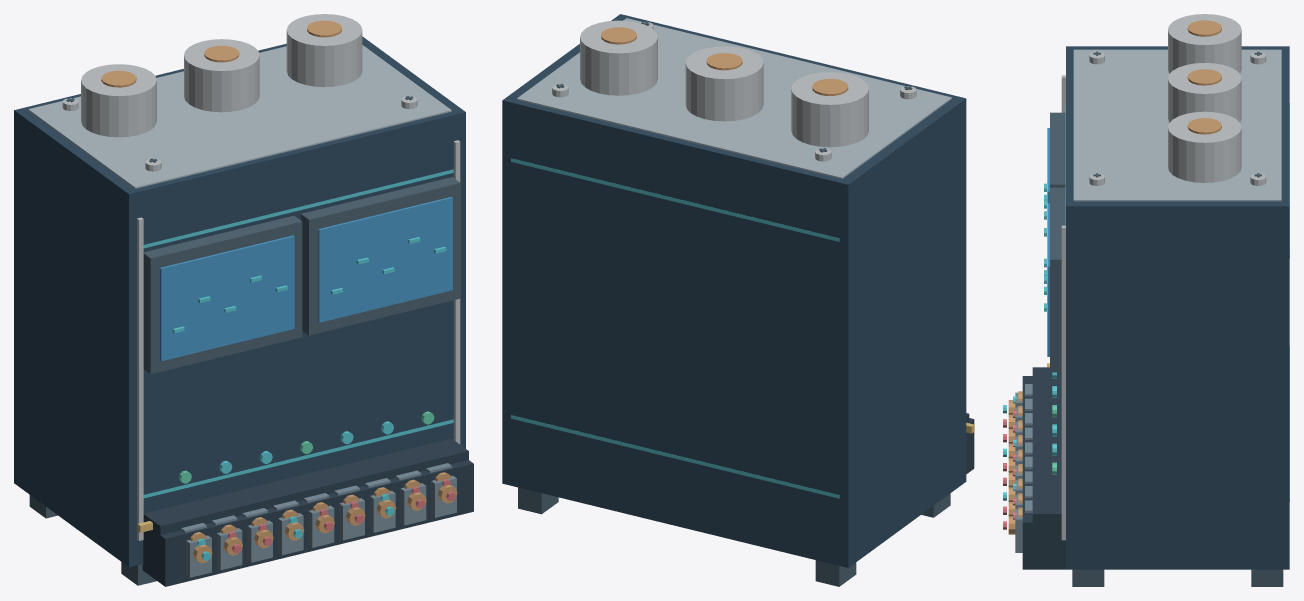
The model's file is 15_L73_VirtualSlurrySupplyCabinet.glb.
3 views of the same model, side by side, from view 1: azimuth 30°, elevation 25°; view 2: azimuth 150°, elevation 25°; view 3: azimuth 270°, elevation 25° (orthographic). The views are drawn at different scales.
Visible parts, largest first — view 1: VirtualSlurrySupplyCabinet_Node_0000, VirtualSlurrySupplyCabinet_Node_0007, VirtualSlurrySupplyCabinet_Node_0025, VirtualSlurrySupplyCabinet_Node_0032, VirtualSlurrySupplyCabinet_Node_0049, VirtualSlurrySupplyCabinet_Node_0024, VirtualSlurrySupplyCabinet_Node_0096, VirtualSlurrySupplyCabinet_Node_0031, VirtualSlurrySupplyCabinet_Node_0081, VirtualSlurrySupplyCabinet_Node_0079, VirtualSlurrySupplyCabinet_Node_0077, VirtualSlurrySupplyCabinet_Node_0005 (+12 smaller); view 2: VirtualSlurrySupplyCabinet_Node_0000, VirtualSlurrySupplyCabinet_Node_0007, VirtualSlurrySupplyCabinet_Node_0079, VirtualSlurrySupplyCabinet_Node_0081, VirtualSlurrySupplyCabinet_Node_0077, VirtualSlurrySupplyCabinet_Node_0022, VirtualSlurrySupplyCabinet_Node_0020, VirtualSlurrySupplyCabinet_Node_0045, VirtualSlurrySupplyCabinet_Node_0047; view 3: VirtualSlurrySupplyCabinet_Node_0000, VirtualSlurrySupplyCabinet_Node_0007, VirtualSlurrySupplyCabinet_Node_0049, VirtualSlurrySupplyCabinet_Node_0081, VirtualSlurrySupplyCabinet_Node_0077, VirtualSlurrySupplyCabinet_Node_0079, VirtualSlurrySupplyCabinet_Node_0031, VirtualSlurrySupplyCabinet_Node_0096, VirtualSlurrySupplyCabinet_Node_0006, VirtualSlurrySupplyCabinet_Node_0024, VirtualSlurrySupplyCabinet_Node_0047, VirtualSlurrySupplyCabinet_Node_0048 (+4 smaller).
Part boxes in pixels (x1,y1,x2,y2): VirtualSlurrySupplyCabinet_Node_0000: [14, 36, 465, 567]; VirtualSlurrySupplyCabinet_Node_0007: [28, 45, 451, 188]; VirtualSlurrySupplyCabinet_Node_0025: [160, 235, 294, 361]; VirtualSlurrySupplyCabinet_Node_0032: [318, 196, 452, 322]; VirtualSlurrySupplyCabinet_Node_0049: [143, 438, 468, 573]; VirtualSlurrySupplyCabinet_Node_0024: [143, 215, 302, 373]; VirtualSlurrySupplyCabinet_Node_0096: [142, 460, 473, 586]; VirtualSlurrySupplyCabinet_Node_0031: [301, 177, 460, 335]; VirtualSlurrySupplyCabinet_Node_0081: [286, 14, 362, 87]; VirtualSlurrySupplyCabinet_Node_0079: [184, 39, 259, 112]; VirtualSlurrySupplyCabinet_Node_0077: [81, 64, 156, 137]; VirtualSlurrySupplyCabinet_Node_0005: [137, 217, 143, 540]; VirtualSlurrySupplyCabinet_Node_0000: [502, 14, 966, 567]; VirtualSlurrySupplyCabinet_Node_0007: [517, 18, 951, 178]; VirtualSlurrySupplyCabinet_Node_0079: [685, 46, 763, 121]; VirtualSlurrySupplyCabinet_Node_0081: [580, 20, 657, 95]; VirtualSlurrySupplyCabinet_Node_0077: [791, 72, 868, 147]; VirtualSlurrySupplyCabinet_Node_0022: [511, 158, 839, 241]; VirtualSlurrySupplyCabinet_Node_0020: [511, 415, 839, 498]; VirtualSlurrySupplyCabinet_Node_0045: [815, 560, 856, 586]; VirtualSlurrySupplyCabinet_Node_0047: [518, 487, 558, 514]; VirtualSlurrySupplyCabinet_Node_0000: [1066, 46, 1289, 569]; VirtualSlurrySupplyCabinet_Node_0007: [1073, 49, 1281, 201]; VirtualSlurrySupplyCabinet_Node_0049: [1032, 367, 1065, 560]; VirtualSlurrySupplyCabinet_Node_0081: [1168, 111, 1241, 182]; VirtualSlurrySupplyCabinet_Node_0077: [1168, 14, 1241, 73]; VirtualSlurrySupplyCabinet_Node_0079: [1168, 63, 1241, 122]; VirtualSlurrySupplyCabinet_Node_0031: [1050, 187, 1065, 372]; VirtualSlurrySupplyCabinet_Node_0096: [1022, 376, 1065, 569]; VirtualSlurrySupplyCabinet_Node_0006: [1061, 225, 1065, 540]; VirtualSlurrySupplyCabinet_Node_0024: [1050, 112, 1065, 187]; VirtualSlurrySupplyCabinet_Node_0047: [1251, 569, 1283, 586]; VirtualSlurrySupplyCabinet_Node_0048: [1072, 569, 1104, 586].
Bounding box in the file's own units: 1.54 × 1.95 × 1.17.
